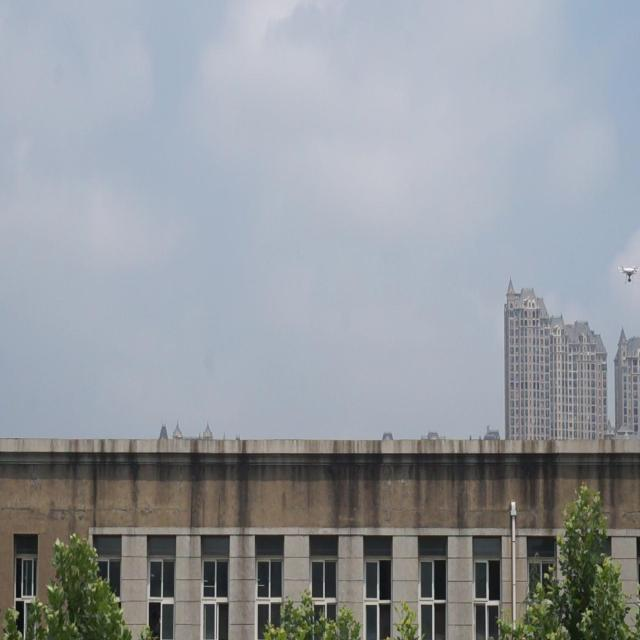drone: (617, 261, 640, 283)
